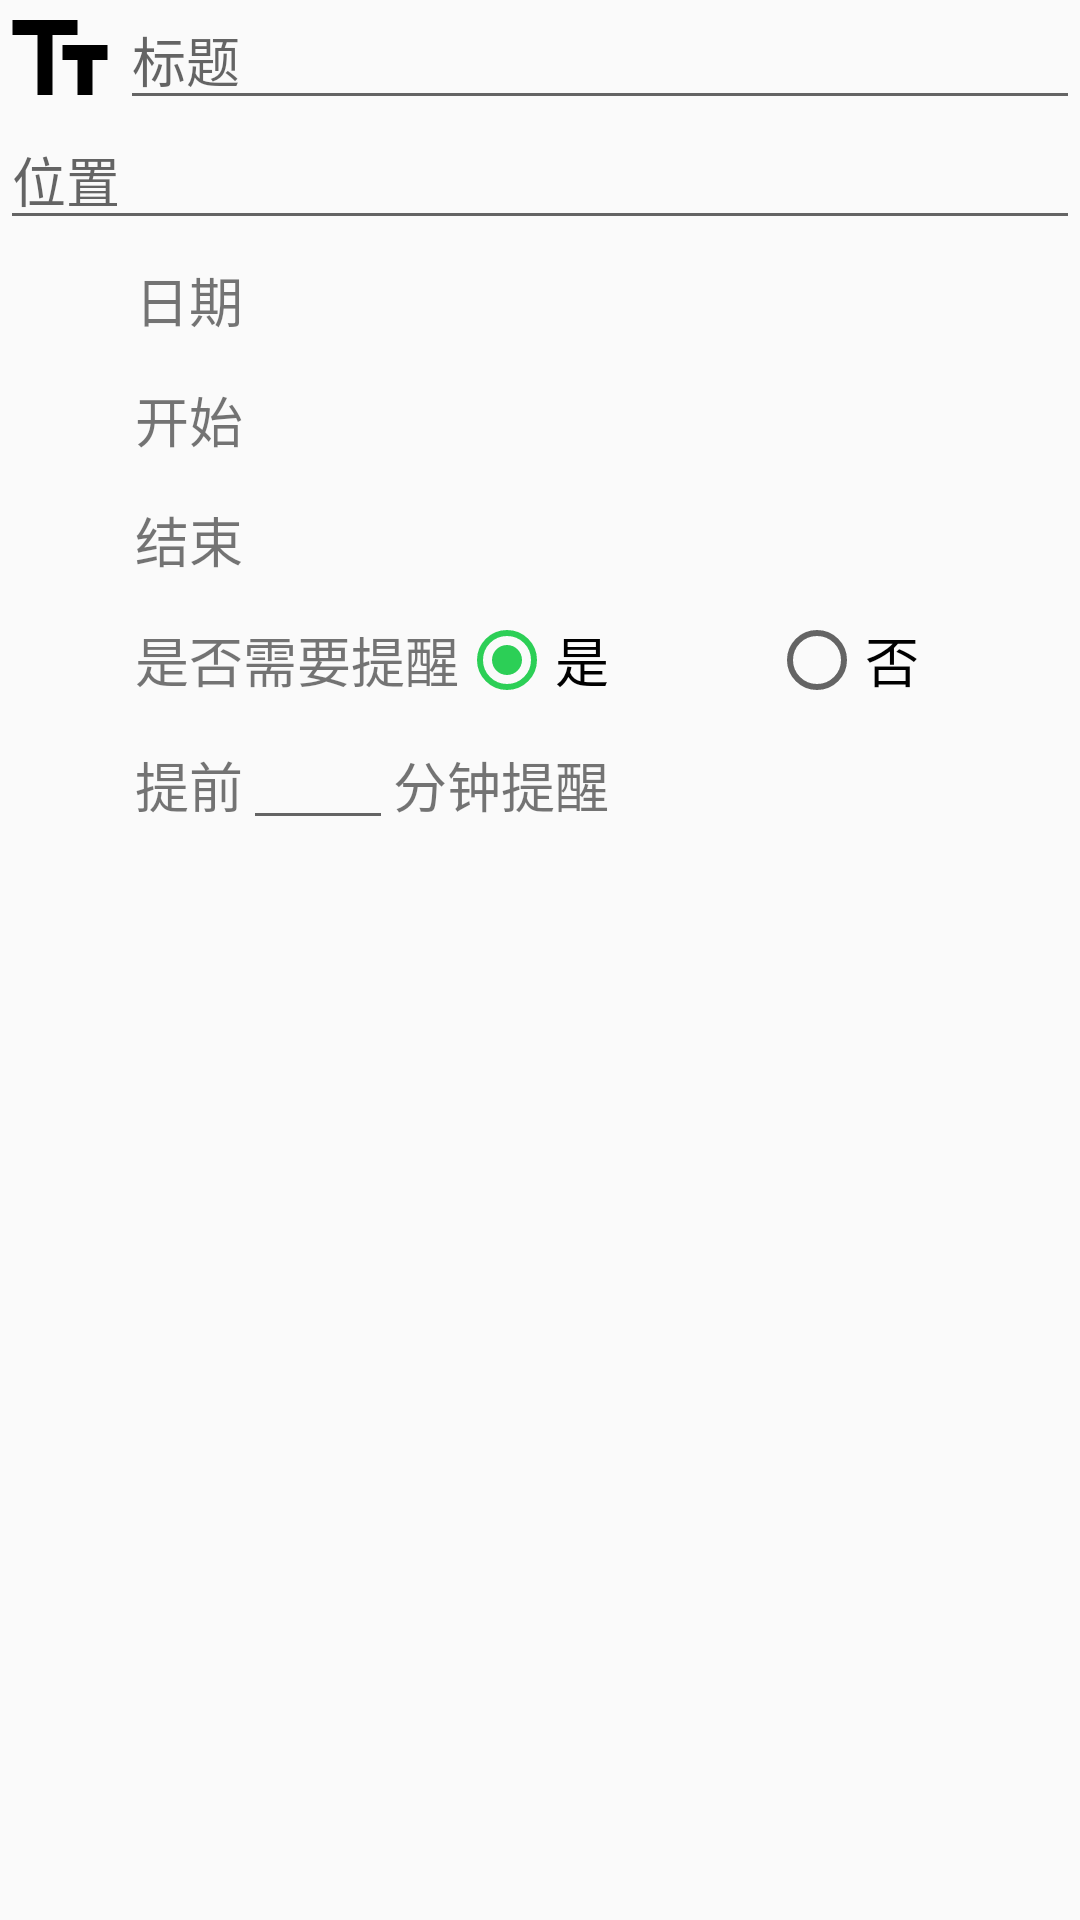

Icon click points for this 1080 x 1920 phone screenshot, format (x,y):
text fields: (60,57)
